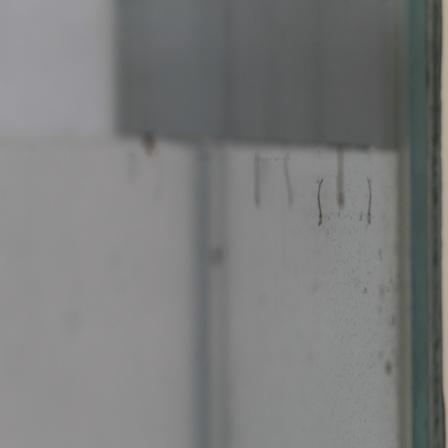Jentik-Nyamuk: (311, 177, 328, 231), (362, 174, 379, 227)
